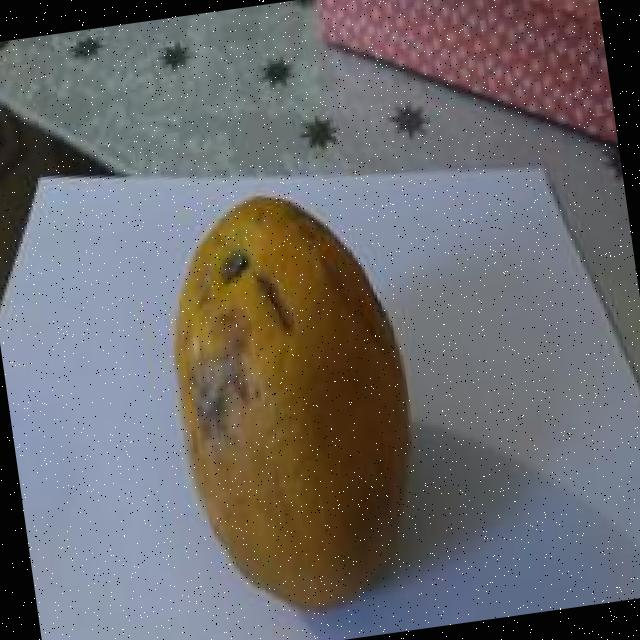overripe: (148, 167, 444, 628)
